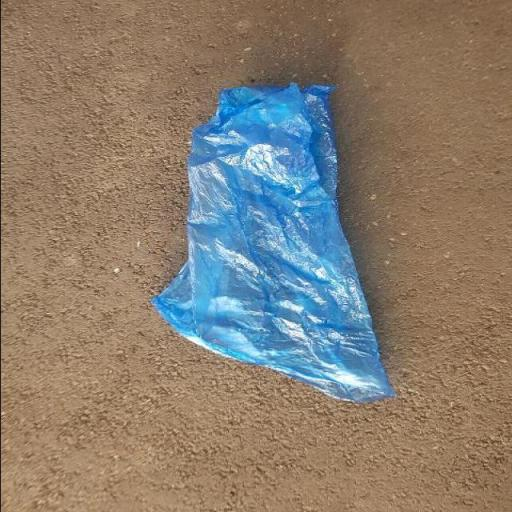plastic-bag: (149, 78, 398, 404)
